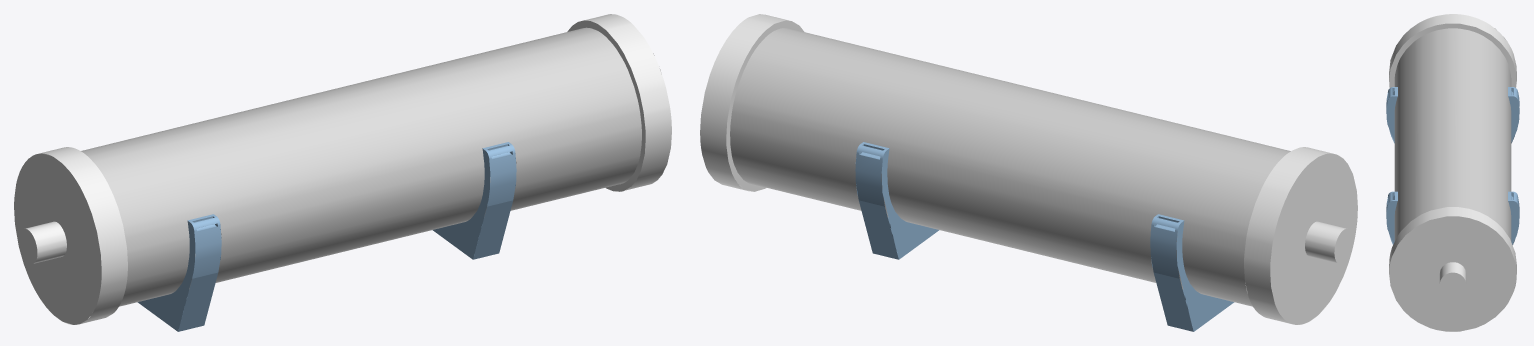
Rendered from clay_assembly.dae.
3 views of the same model, side by side, from view 1: azimuth 30°, elevation 25°; view 2: azimuth 150°, elevation 25°; view 3: azimuth 270°, elevation 25° (orthographic). The views are drawn at different scales.
Parts seen in each view (by area): view 1: Object.005; view 2: Object.005; view 3: Object.005.
Part boxes in pixels (left/top/right/bottom): Object.005: left=14, top=14, right=671, bottom=331; Object.005: left=700, top=14, right=1357, bottom=331; Object.005: left=1386, top=14, right=1519, bottom=331.
Bounding box in the file's own units: 0.48 × 0.121 × 0.1271.
